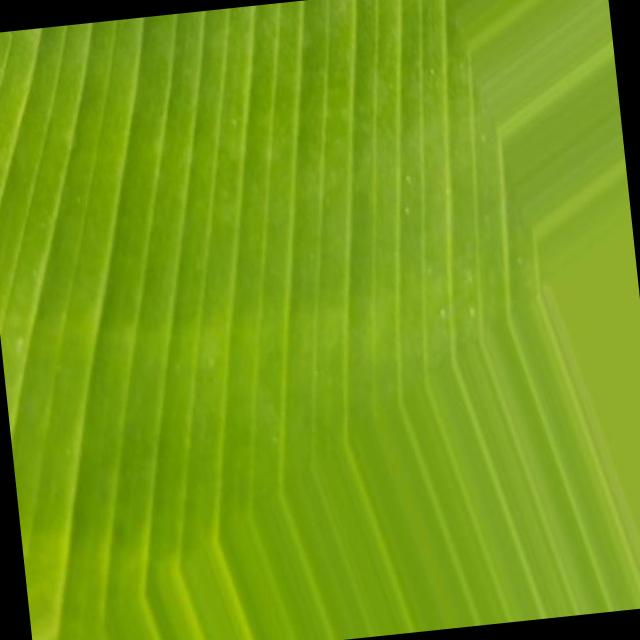Banana_Healthy: (78, 52, 550, 524)
